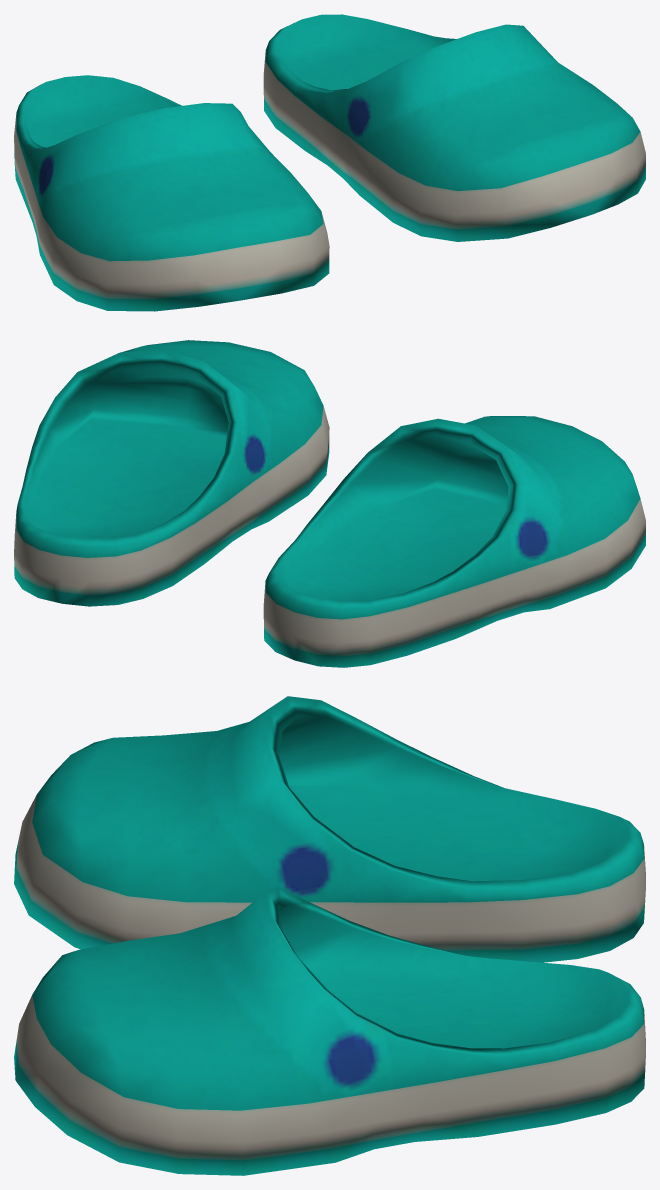
The model's file is ShoesSandalResin0.glb.
3 renders of one model, top to bottom at view 1: azimuth 30°, elevation 25°; view 2: azimuth 150°, elevation 25°; view 3: azimuth 270°, elevation 25°, orthographic. The views are drawn at different scales.
Parts seen in each view (by area): view 1: Body__mShoes; view 2: Body__mShoes; view 3: Body__mShoes.
Part boxes in pixels (left/top/right/bottom): Body__mShoes: left=14, top=14, right=645, bottom=311; Body__mShoes: left=14, top=340, right=645, bottom=667; Body__mShoes: left=14, top=696, right=645, bottom=1175.
Bounding box in the file's own units: 3.5 × 0.8471 × 2.61.
1 material, 1 textured.
